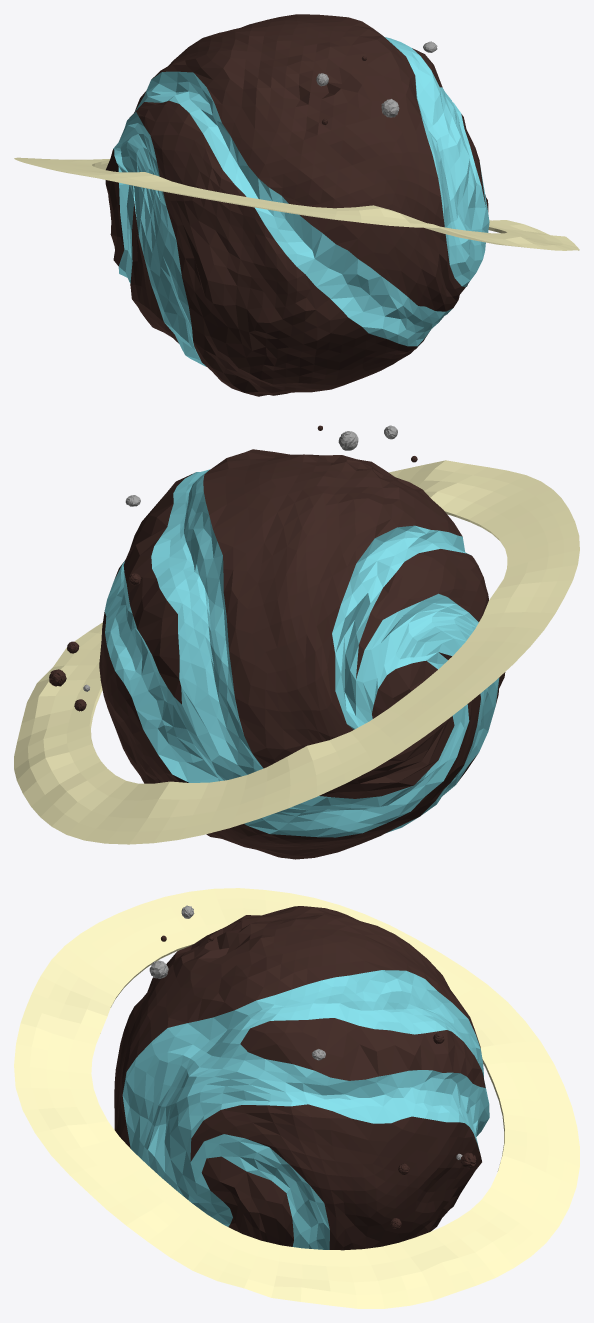
Rendered from Planet_40.glb.
3 renders of one model, top to bottom at view 1: azimuth 30°, elevation 25°; view 2: azimuth 150°, elevation 25°; view 3: azimuth 270°, elevation 25°, orthographic. The views are drawn at different scales.
Visible parts, largest first — view 1: Planet_40; view 2: Planet_40; view 3: Planet_40.
Boxes of the visible parts, left/top/right/bottom form: Planet_40: left=14, top=14, right=579, bottom=396; Planet_40: left=14, top=425, right=579, bottom=859; Planet_40: left=14, top=888, right=579, bottom=1308.
Size of the model in its own units: 29.38 by 20.83 by 30.16.
1 material, 1 textured.
